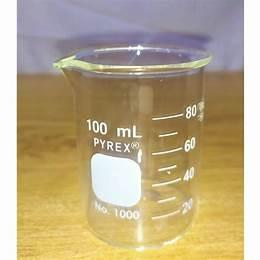Beaker: (53, 42, 218, 248)
